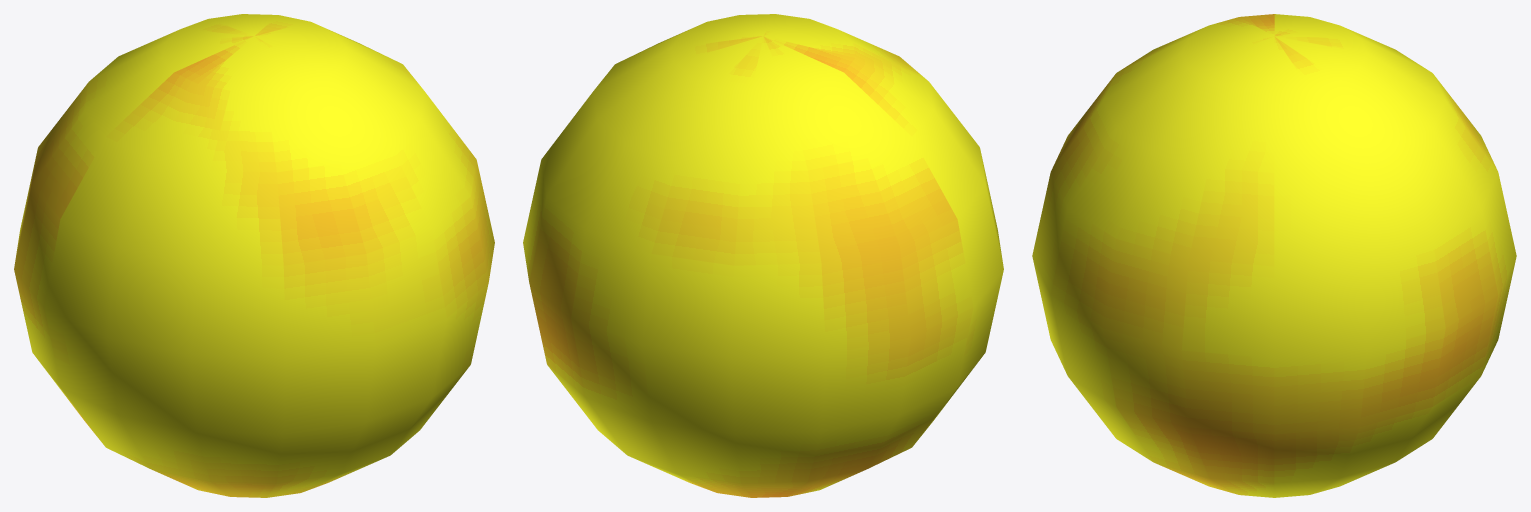
File: Bullet.Display.obj
The picture shows the model from 3 angles, left to right: view 1: azimuth 30°, elevation 25°; view 2: azimuth 150°, elevation 25°; view 3: azimuth 270°, elevation 25°; orthographic projection.
Parts seen in each view (by area): view 1: Bullet.Display; view 2: Bullet.Display; view 3: Bullet.Display.
Part boxes in pixels (box(x1,y1,x2,y2)): Bullet.Display: box(14, 14, 494, 497); Bullet.Display: box(523, 14, 1003, 497); Bullet.Display: box(1032, 14, 1516, 497).
Bounding box in the file's own units: 0.1591 × 0.1591 × 0.1591.
